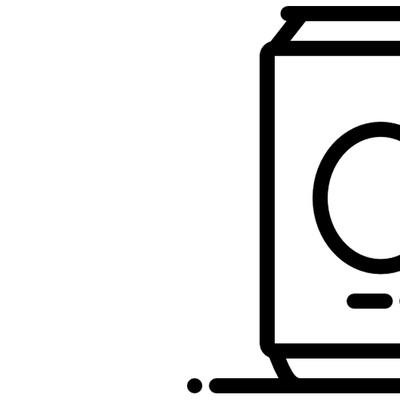beer: (258, 7, 400, 380)
